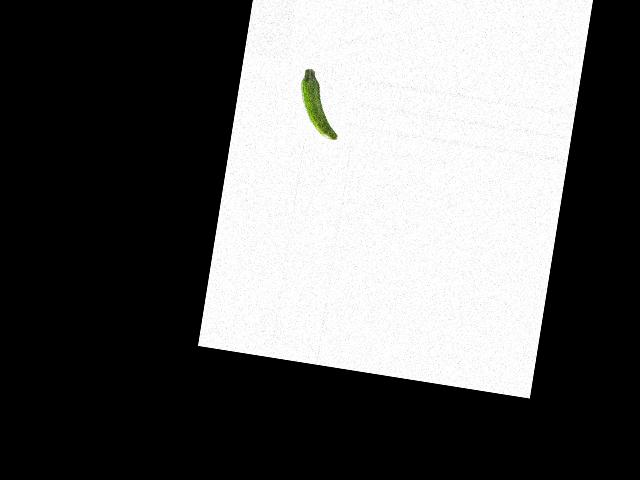cucumber: (293, 67, 348, 140)
